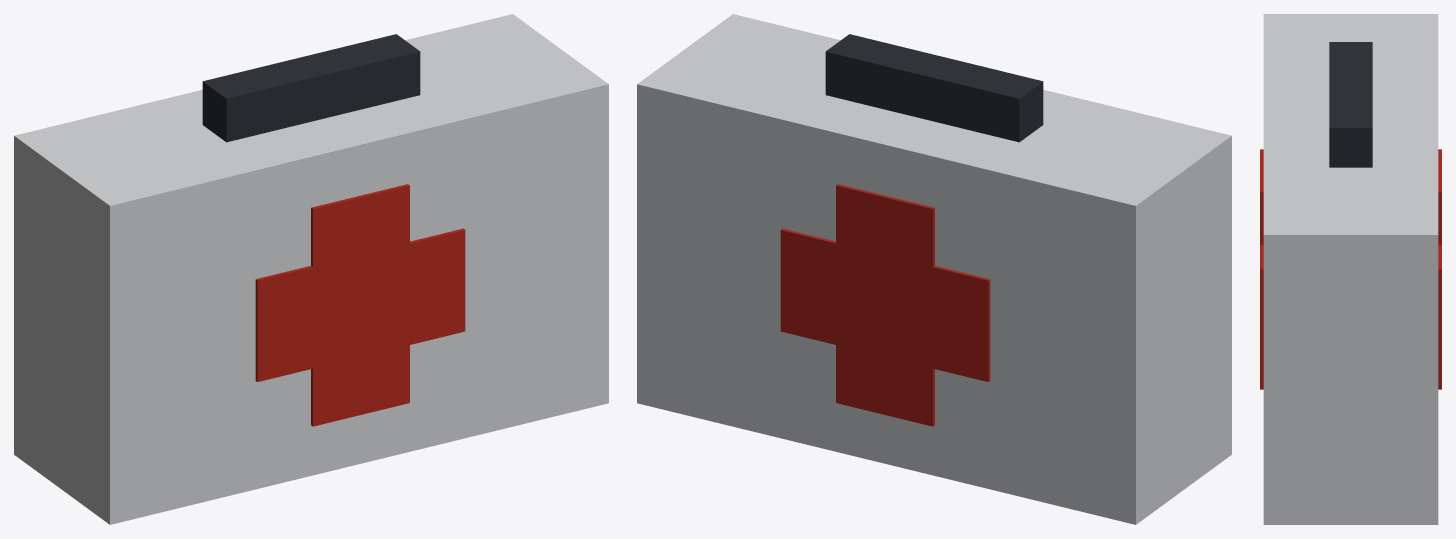
Rendered from medkit.glb.
3 views of the same model, side by side, from view 1: azimuth 30°, elevation 25°; view 2: azimuth 150°, elevation 25°; view 3: azimuth 270°, elevation 25° (orthographic). The views are drawn at different scales.
Parts seen in each view (by area): view 1: body, crossv, crossh, handle; view 2: body, crossv, handle, crossh; view 3: body, handle, crossv, crossh.
Boxes of the visible parts, bbox=[...] form: body: bbox=[14, 14, 608, 524]; crossv: bbox=[311, 184, 409, 426]; crossh: bbox=[255, 228, 465, 381]; handle: bbox=[202, 34, 420, 142]; body: bbox=[637, 14, 1231, 524]; crossv: bbox=[836, 184, 934, 426]; handle: bbox=[825, 34, 1043, 142]; crossh: bbox=[780, 228, 990, 381]; body: bbox=[1263, 14, 1438, 524]; handle: bbox=[1329, 42, 1372, 167]; crossv: bbox=[1260, 149, 1441, 389]; crossh: bbox=[1260, 245, 1441, 361].
Bounding box in the file's own units: 0.36 × 0.25 × 0.125.
